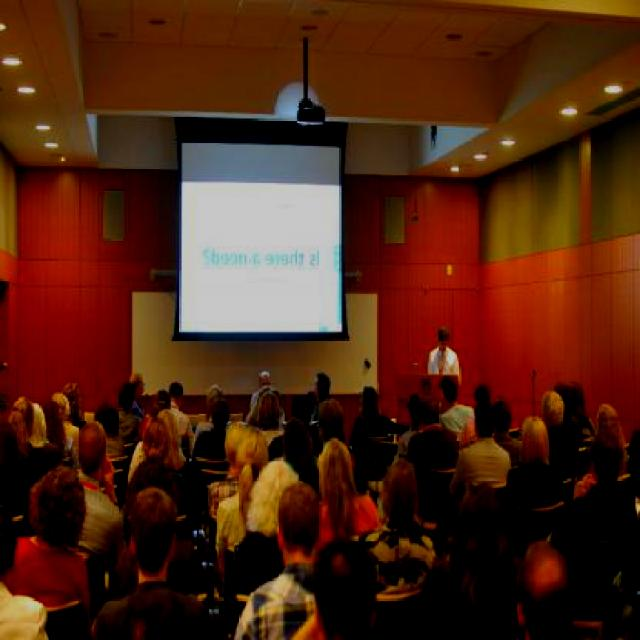Person: (92, 484, 216, 640), (408, 482, 524, 638), (6, 462, 92, 638), (232, 482, 322, 640), (549, 430, 637, 572), (2, 380, 88, 518), (360, 456, 438, 596), (232, 458, 300, 594), (290, 534, 378, 638), (66, 420, 126, 569), (125, 414, 188, 543), (217, 428, 269, 578), (316, 435, 382, 551), (448, 398, 512, 500), (1, 504, 49, 638), (515, 536, 577, 639), (348, 384, 408, 478), (406, 395, 458, 499), (508, 414, 564, 506), (574, 404, 628, 482), (208, 422, 248, 524), (246, 386, 312, 446), (542, 391, 580, 478), (192, 397, 230, 461), (440, 374, 476, 434), (316, 397, 346, 463), (168, 379, 194, 455), (280, 416, 314, 473), (428, 324, 460, 384), (394, 392, 424, 456), (117, 379, 143, 439), (311, 372, 334, 422), (250, 370, 272, 410), (129, 372, 146, 421)
